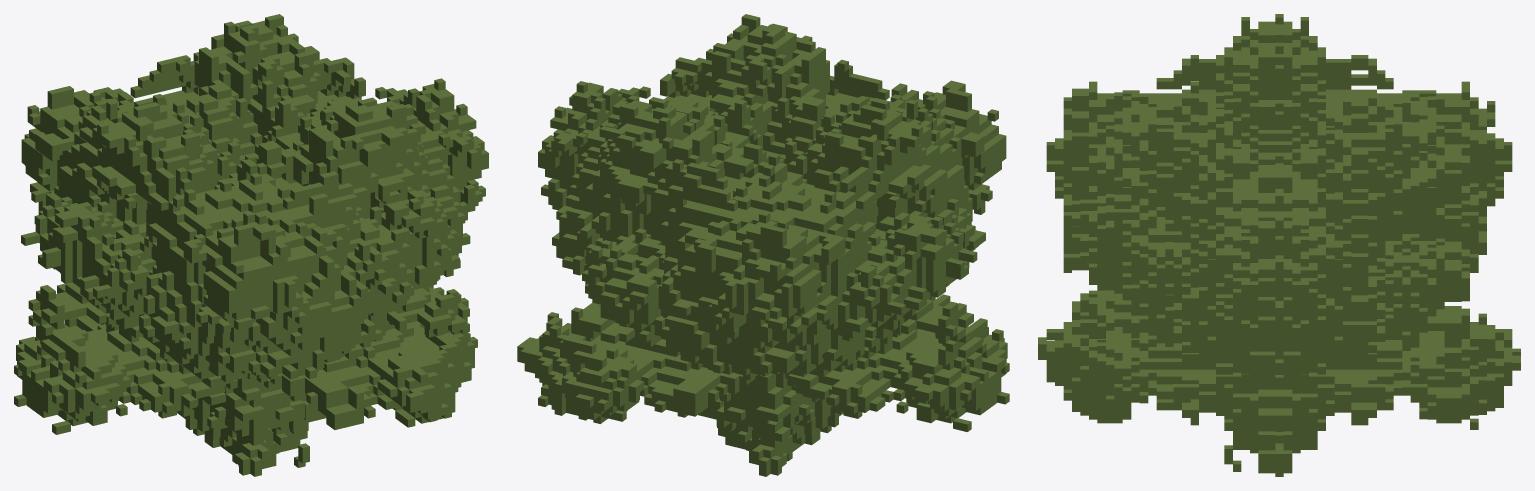
File: good-17.obj
3 renders of one model, left to right at view 1: azimuth 30°, elevation 25°; view 2: azimuth 150°, elevation 25°; view 3: azimuth 270°, elevation 25°, orthographic.
Size of the model in its own units: 5.9 by 4.9 by 5.7.
1 material, 1 textured.
